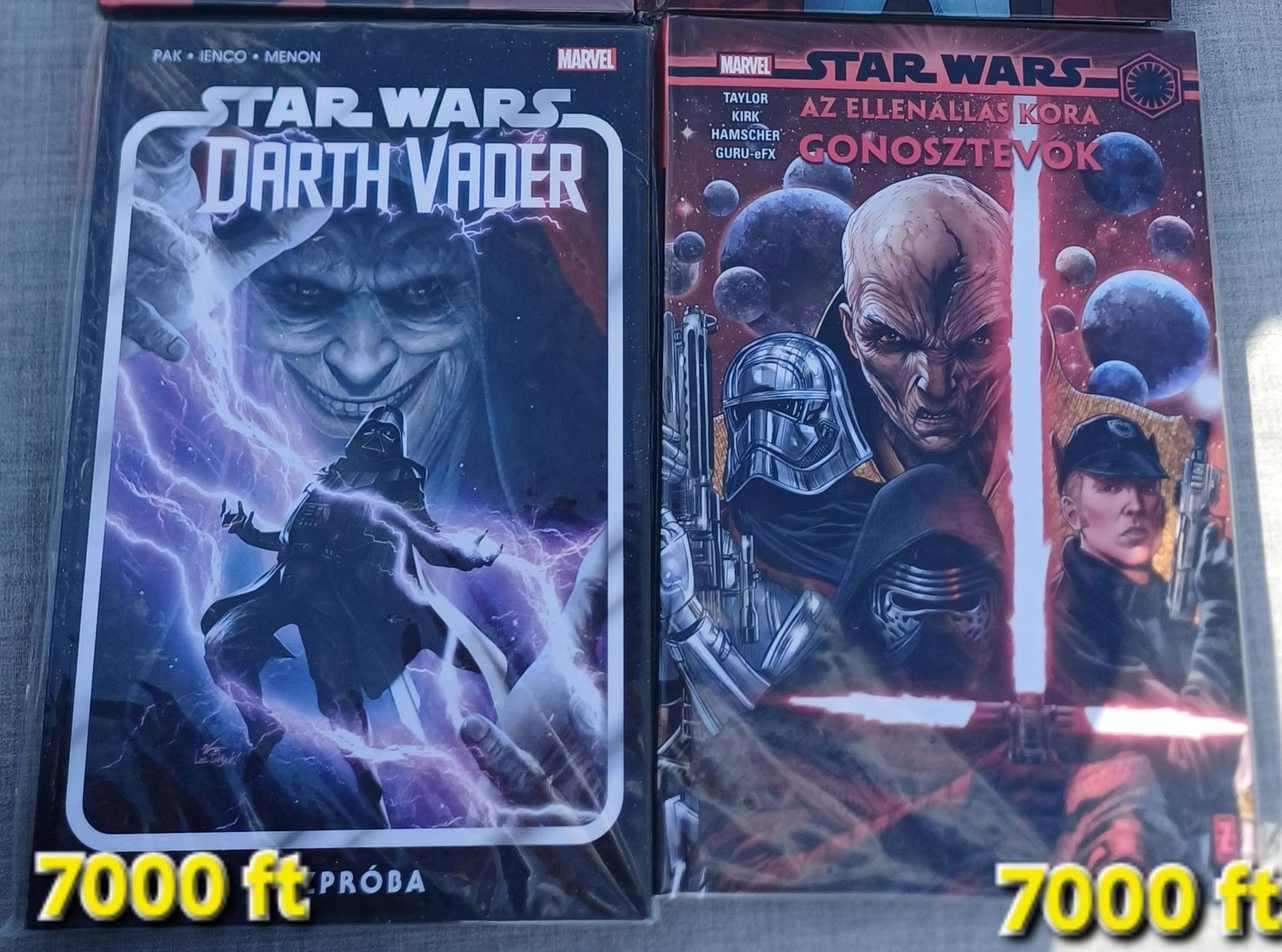comic: (33, 18, 663, 925), (657, 17, 1254, 893)
